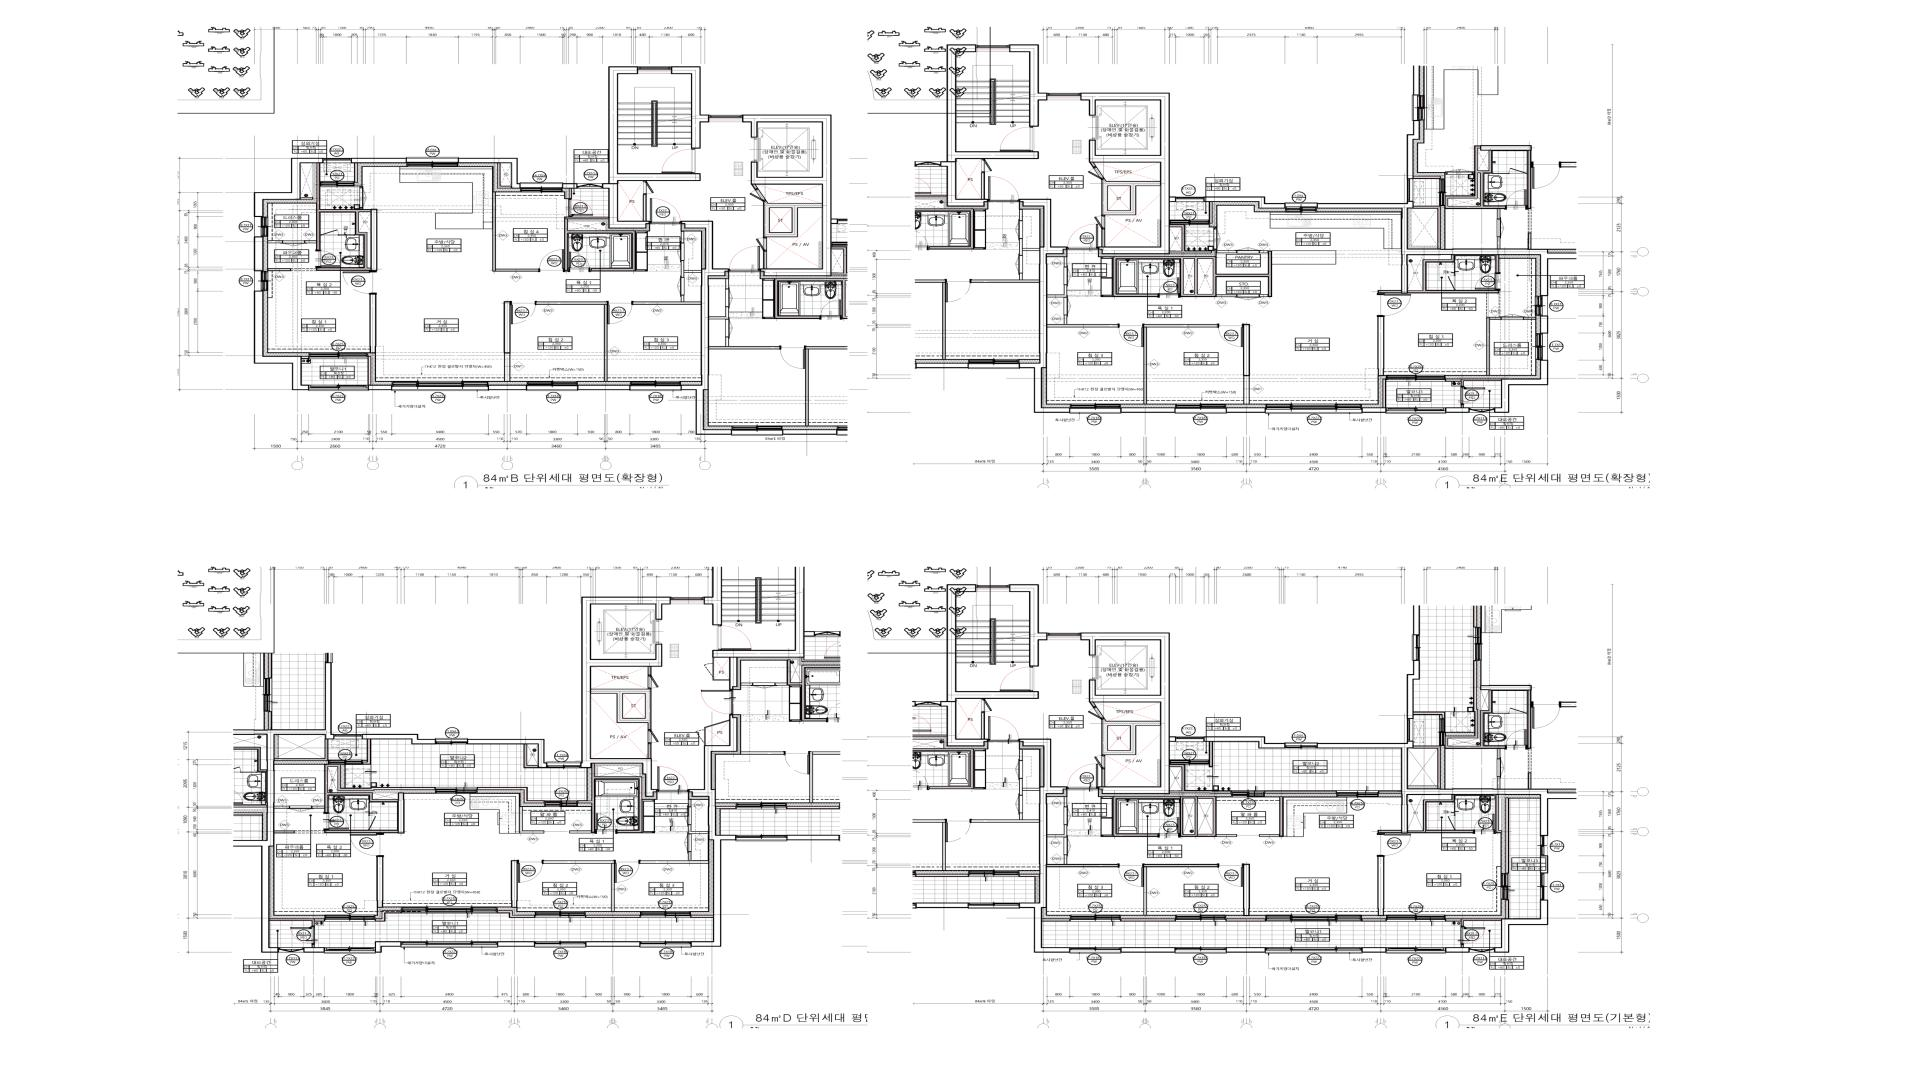door: (1000, 127, 1034, 152), (717, 625, 752, 650), (650, 198, 680, 225), (1067, 764, 1098, 790), (1377, 833, 1411, 857), (1000, 667, 1034, 691), (662, 149, 696, 173), (343, 270, 377, 294), (658, 766, 688, 793), (351, 833, 384, 857), (1377, 294, 1411, 316), (1068, 224, 1098, 249), (510, 301, 537, 324), (607, 301, 633, 324), (615, 860, 641, 884), (517, 860, 543, 884), (1218, 864, 1244, 887), (1118, 864, 1143, 887), (1118, 324, 1145, 347), (539, 249, 564, 272), (1217, 324, 1242, 347), (1461, 926, 1486, 945), (1461, 386, 1486, 405), (290, 926, 315, 944), (323, 812, 349, 829), (1158, 818, 1180, 837), (568, 252, 591, 272), (1158, 278, 1180, 298), (595, 814, 617, 833), (568, 199, 593, 216), (315, 251, 340, 268), (1476, 273, 1501, 290), (1474, 814, 1495, 833), (748, 189, 766, 204), (1087, 167, 1105, 182), (1085, 707, 1105, 720), (1213, 227, 1221, 251), (1093, 215, 1105, 229), (981, 158, 993, 173), (647, 674, 659, 688), (360, 186, 367, 210), (756, 237, 767, 251), (647, 729, 658, 744), (644, 181, 654, 195), (290, 806, 313, 812), (1237, 294, 1259, 301), (1502, 314, 1524, 320), (1095, 756, 1105, 769), (981, 699, 992, 712), (284, 240, 305, 247), (1448, 814, 1456, 829), (320, 229, 339, 236), (1237, 248, 1259, 253), (368, 815, 376, 829), (1448, 276, 1456, 290)
wall: (1316, 741, 1548, 836), (1316, 203, 1548, 297), (582, 596, 671, 796), (261, 731, 334, 953), (603, 66, 700, 228), (1080, 92, 1176, 255), (1081, 633, 1176, 794), (945, 45, 1039, 207), (947, 584, 1039, 746), (742, 115, 831, 277), (712, 543, 804, 690), (688, 715, 737, 947), (1019, 738, 1071, 953), (680, 220, 732, 435), (1019, 199, 1071, 413), (1113, 251, 1273, 297), (1143, 324, 1217, 405), (316, 164, 371, 270), (537, 302, 608, 381), (255, 291, 309, 390), (324, 765, 435, 812), (578, 764, 642, 833), (1113, 796, 1217, 837), (253, 158, 323, 218), (492, 191, 539, 272), (1143, 864, 1217, 915), (564, 219, 636, 272), (543, 861, 615, 913), (1407, 256, 1498, 294), (671, 66, 709, 149), (704, 543, 742, 625), (1009, 45, 1047, 127), (1010, 584, 1047, 667), (1494, 899, 1548, 953), (1494, 360, 1548, 413), (1408, 795, 1474, 833), (467, 738, 547, 769), (1101, 719, 1160, 756), (764, 200, 822, 237), (1101, 179, 1160, 215), (459, 158, 521, 189), (1170, 765, 1232, 794), (1170, 224, 1212, 253), (274, 740, 328, 761), (1204, 736, 1286, 749), (477, 787, 545, 803), (1204, 196, 1286, 208), (1047, 855, 1118, 868), (1486, 316, 1502, 376), (1047, 315, 1118, 328), (361, 733, 436, 745), (640, 852, 708, 864), (520, 806, 545, 833), (1242, 324, 1250, 405), (633, 295, 700, 305), (1197, 258, 1213, 294), (504, 302, 510, 382), (642, 799, 655, 833), (371, 208, 377, 270), (376, 857, 384, 907), (1378, 857, 1385, 915), (369, 295, 376, 353), (253, 236, 264, 272), (1121, 947, 1176, 953), (269, 919, 314, 927), (524, 745, 538, 769), (1244, 864, 1250, 915), (680, 261, 702, 277), (497, 164, 510, 189), (375, 910, 402, 922), (375, 942, 402, 953), (397, 793, 405, 833), (510, 860, 517, 907), (1461, 378, 1501, 386), (1378, 316, 1383, 376), (497, 910, 535, 918), (351, 158, 407, 164), (1506, 798, 1510, 873), (324, 829, 398, 833), (585, 942, 641, 947), (1265, 790, 1337, 794), (1121, 407, 1175, 413), (576, 385, 630, 390), (1461, 919, 1501, 926), (1047, 824, 1067, 837), (1047, 285, 1067, 298), (1495, 795, 1502, 833), (363, 740, 372, 765), (1279, 796, 1284, 837), (1225, 948, 1266, 953), (688, 824, 708, 835), (1226, 407, 1266, 413), (488, 385, 527, 390), (497, 942, 535, 947), (1362, 947, 1387, 953), (1445, 947, 1470, 953), (1120, 919, 1176, 922), (585, 915, 641, 918), (1540, 315, 1548, 334), (303, 947, 324, 953), (1540, 856, 1548, 873), (1445, 407, 1470, 413), (1362, 407, 1387, 413), (368, 385, 392, 390), (564, 216, 608, 219), (1225, 919, 1267, 922), (1382, 380, 1386, 407), (981, 712, 985, 738), (981, 173, 985, 199), (1209, 742, 1213, 767), (642, 195, 646, 220), (1378, 829, 1402, 833), (1378, 790, 1402, 794), (1378, 290, 1402, 294), (268, 268, 291, 272), (1209, 202, 1213, 224), (562, 183, 578, 189), (1506, 899, 1510, 919), (353, 164, 357, 183), (1042, 919, 1071, 922), (368, 356, 371, 385), (1495, 255, 1499, 273), (764, 251, 767, 269), (1361, 919, 1387, 922), (1101, 769, 1105, 786), (1101, 229, 1105, 247), (690, 915, 713, 918), (1445, 378, 1461, 382), (268, 240, 284, 244), (570, 831, 591, 833), (1216, 251, 1237, 253), (1259, 835, 1279, 837), (1217, 835, 1237, 837), (274, 831, 294, 833), (1217, 294, 1237, 297), (1524, 316, 1536, 320), (305, 240, 316, 244), (1445, 919, 1461, 922), (1089, 703, 1097, 708), (274, 806, 290, 808), (1089, 162, 1097, 167), (568, 189, 572, 199), (680, 232, 684, 243), (752, 185, 758, 190), (1101, 835, 1113, 837), (1101, 796, 1113, 799), (688, 799, 692, 807), (313, 806, 324, 808), (301, 198, 313, 200), (1064, 796, 1067, 807), (1064, 257, 1067, 268), (315, 919, 324, 922), (1259, 251, 1269, 253), (1259, 294, 1267, 297), (302, 356, 309, 359), (1101, 295, 1113, 297), (1101, 257, 1113, 258), (311, 944, 315, 947), (363, 760, 367, 762), (1461, 405, 1464, 407), (1461, 945, 1464, 947)
window: (392, 381, 488, 392), (1266, 404, 1362, 414), (402, 942, 497, 948), (402, 907, 497, 914), (1266, 915, 1361, 922), (407, 157, 459, 167), (1175, 404, 1226, 414), (1071, 404, 1121, 414), (1266, 948, 1362, 953), (630, 381, 680, 390), (527, 381, 578, 390), (520, 183, 563, 193), (309, 385, 368, 392), (309, 352, 368, 359), (1386, 375, 1445, 381), (1387, 915, 1445, 922), (1387, 407, 1445, 414), (1535, 334, 1548, 360), (641, 942, 691, 948), (535, 911, 585, 918), (535, 942, 585, 948), (1176, 947, 1226, 953), (1071, 915, 1121, 922), (1337, 790, 1378, 798), (641, 911, 690, 918), (326, 915, 375, 922), (1176, 915, 1225, 922), (1387, 948, 1445, 953), (1286, 203, 1316, 212), (435, 787, 477, 794), (324, 948, 375, 953), (1071, 948, 1121, 953), (1232, 790, 1265, 798), (638, 66, 671, 74), (255, 272, 268, 291), (255, 218, 268, 237), (1047, 92, 1080, 100), (1535, 297, 1548, 315), (1501, 874, 1510, 899), (547, 762, 582, 769), (742, 543, 775, 550), (545, 800, 578, 807), (671, 597, 704, 604), (1047, 633, 1080, 640), (976, 585, 1009, 592), (976, 45, 1009, 51), (709, 115, 742, 121), (1170, 760, 1209, 765), (1540, 874, 1548, 901), (1170, 219, 1209, 224), (1286, 742, 1316, 749), (328, 760, 363, 765), (320, 181, 355, 186), (436, 738, 467, 744), (1540, 836, 1548, 856), (323, 158, 351, 164), (1176, 196, 1204, 202), (335, 735, 361, 740), (578, 183, 601, 189), (1470, 407, 1494, 413), (1176, 737, 1204, 741), (278, 948, 303, 952), (1470, 948, 1494, 952)
